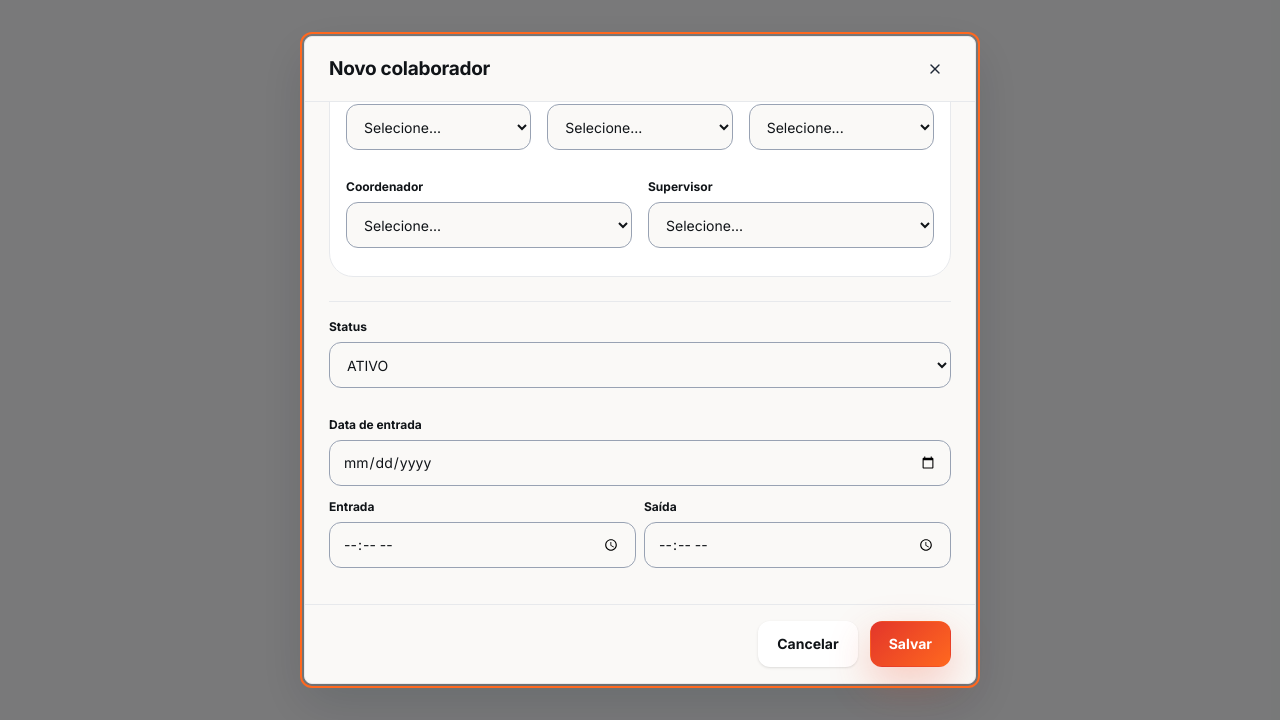
Test case: CollaboratorFormModal › mostra campos de férias apenas quando o status é férias
(page scrolled)
Expected: the field labelled "Início das férias" is not shown
Select "FÉRIAS" in the dropdown labelled "Status": (640, 365) [329,342,951,388]
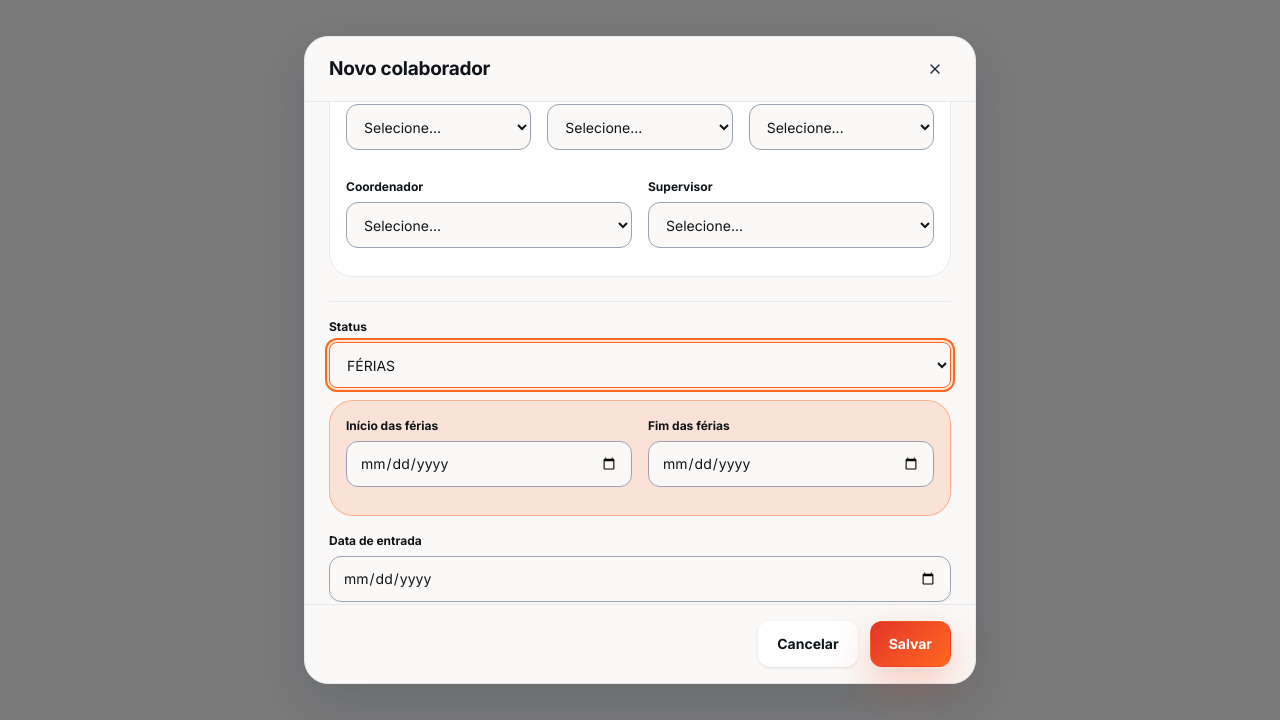
Result: the date field labelled "Início das férias" is shown at [346,441,632,487]
Result: the date field labelled "Fim das férias" is shown at [648,441,934,487]
